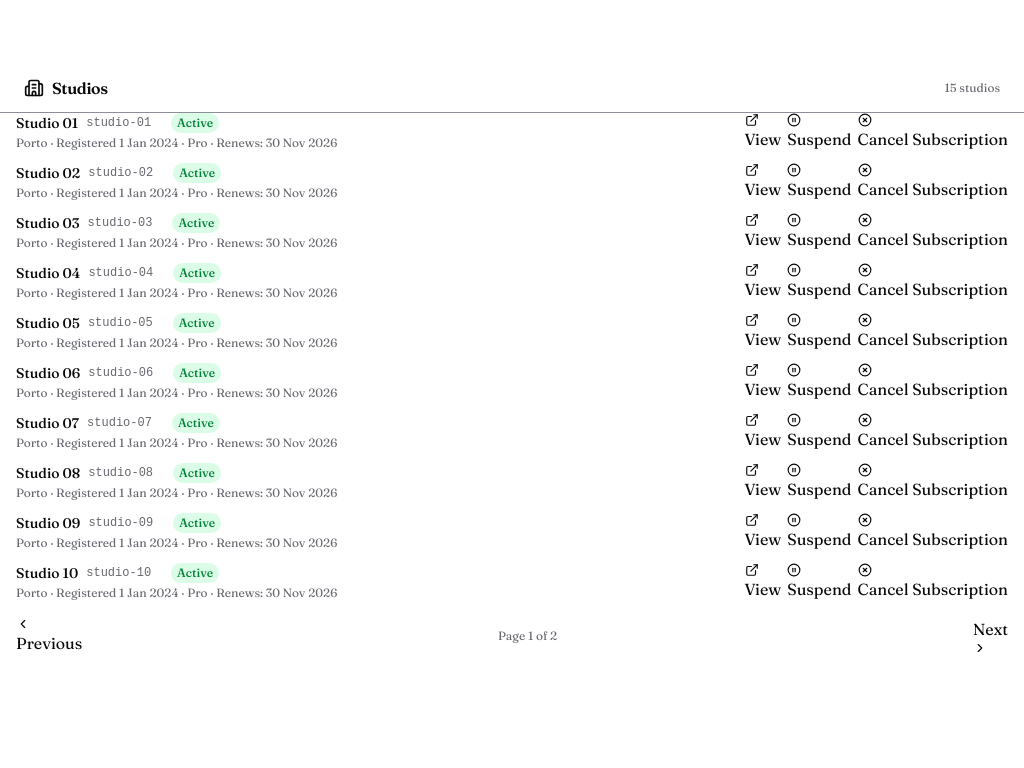
Test: AdminStudioListPage › clicking Next advances to the next page and Next becomes disabled on the last page
This screenshot has width=1024, height=768.
Expected: the text "Studio 01" is shown, [16, 113, 78, 133]
Click the button "Next".
click(990, 636)  # box [973, 617, 1008, 655]
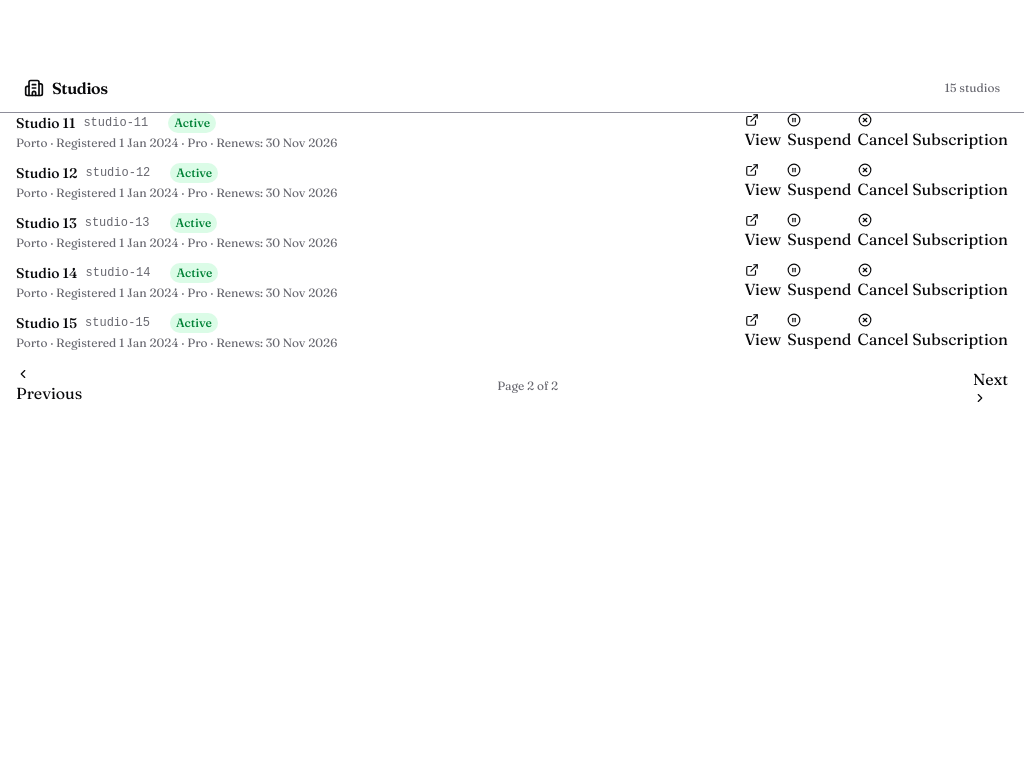
Now the text "Studio 11" is shown, box [16, 113, 75, 133]
Now the text "Studio 01" is gone
Now the text "Page 2 of 2" is shown, box [497, 378, 558, 394]
